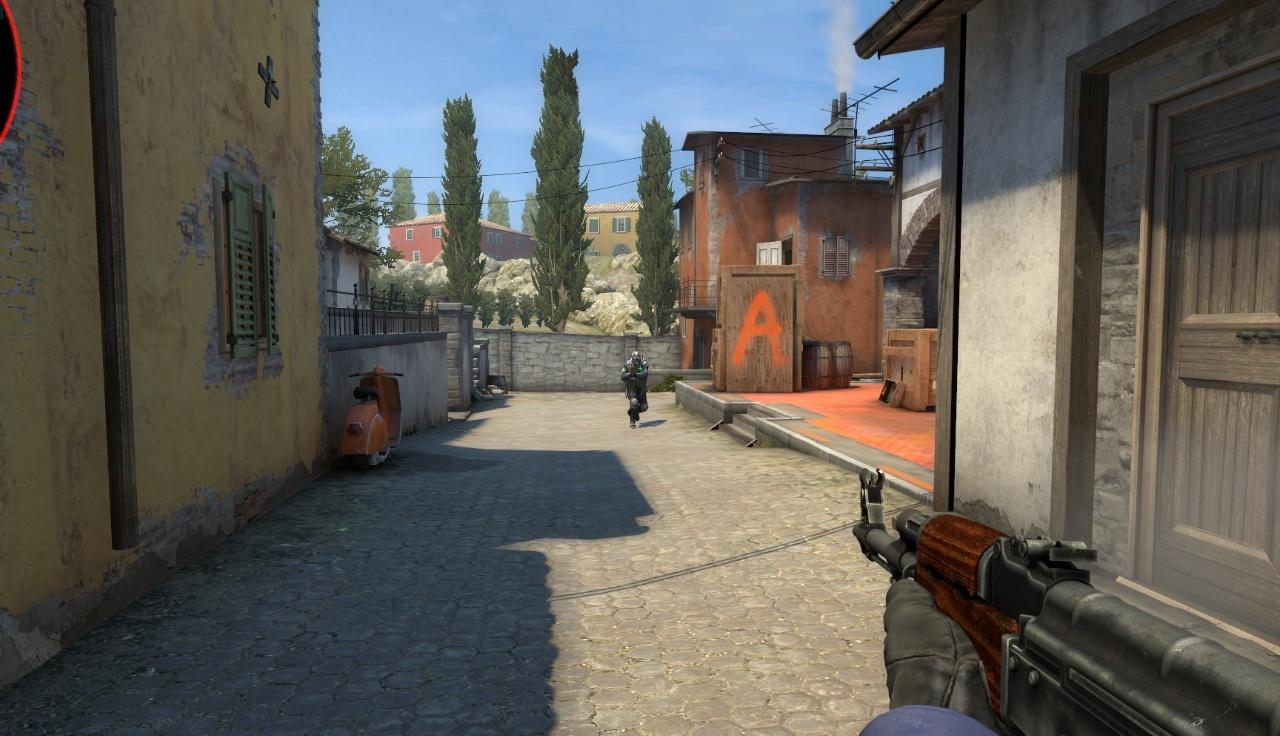ct: (623, 351, 648, 428)
cthead: (632, 351, 641, 366)
rifle: (853, 467, 1280, 736)
